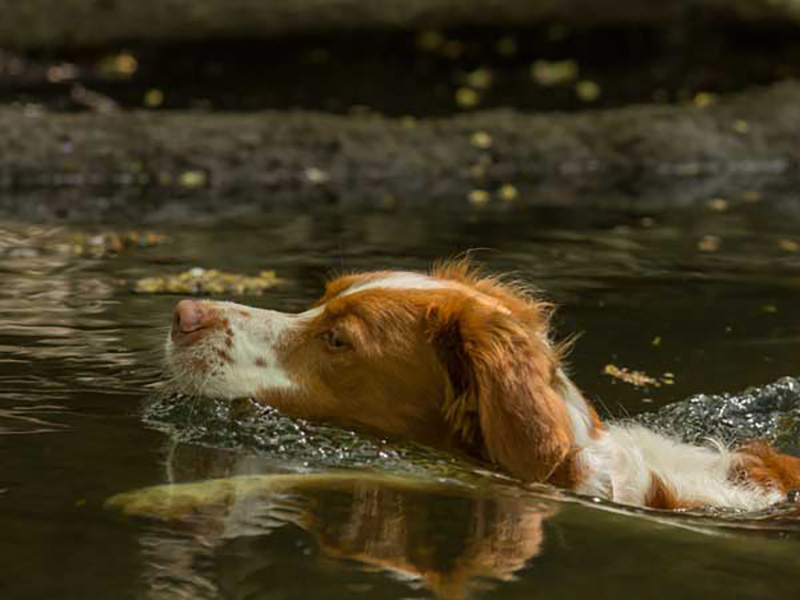cane da caccia: (167, 264, 798, 547)
